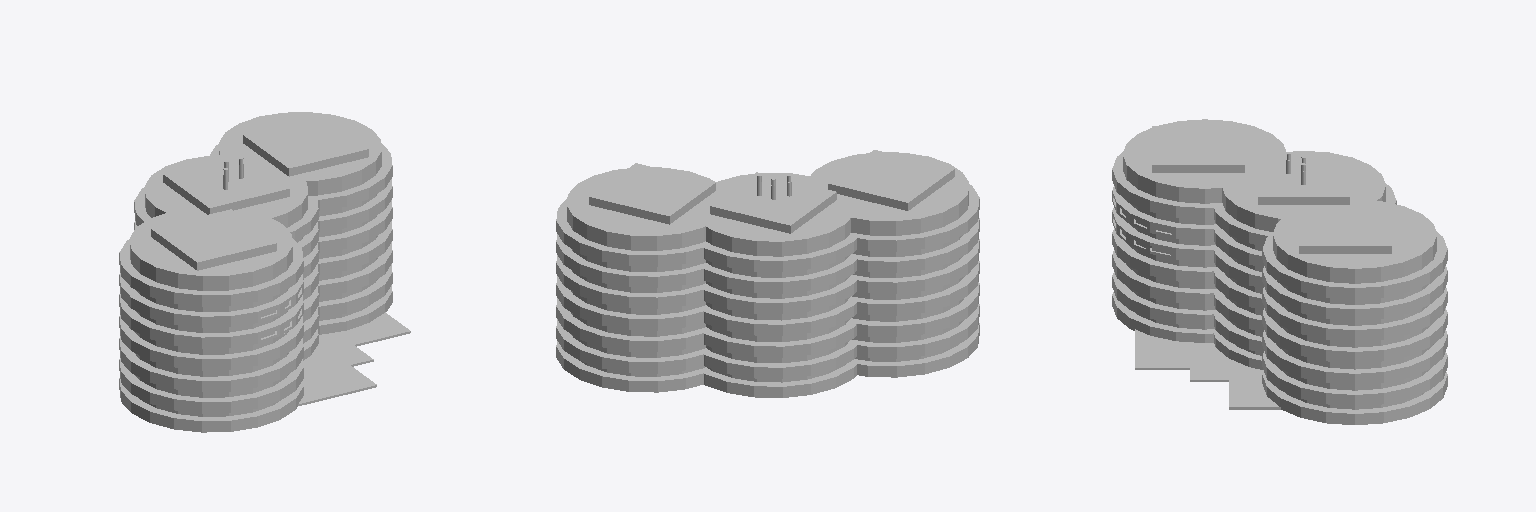
Rendered from buildingOne.obj.
The picture shows the model from 3 angles: view 1: azimuth 30°, elevation 25°; view 2: azimuth 150°, elevation 25°; view 3: azimuth 270°, elevation 25°; orthographic projection.
Visible parts, largest first — view 1: group4 pCylinder16, group4 pCylinder24, pCube4, pCube3, pCube2, group4 pCylinder8, group4 pCylinder15, group4 pCylinder11, group4 pCylinder12, group4 pCylinder10, group4 polySurface10 polySurface7 polySurface1 pCylinder14, group4 pCylinder9 (+12 smaller); view 2: group4 pCylinder24, group4 pCylinder8, group4 pCylinder16, pCube3, pCube4, pCube2, group4 pCylinder23, group4 pCylinder2, group4 pCylinder22, group4 pCylinder19, group4 pCylinder7, group4 pCylinder4 (+15 smaller); view 3: group4 pCylinder24, group4 pCylinder16, group4 pCylinder8, pCube3, pCube4, pCube2, group4 pCylinder23, group4 pCylinder20, group4 pCylinder19, group4 pCylinder18, group4 pCylinder22, group4 pCylinder21 (+18 smaller).
Part boxes in pixels (left/top/right/bottom): group4 pCylinder16: left=130, top=208, right=292, bottom=416; group4 pCylinder24: left=219, top=112, right=381, bottom=320; pCube4: left=151, top=209, right=276, bottom=270; pCube3: left=243, top=115, right=368, bottom=176; pCube2: left=163, top=155, right=289, bottom=214; group4 pCylinder8: left=145, top=155, right=307, bottom=322; group4 pCylinder15: left=119, top=239, right=303, bottom=306; group4 pCylinder11: left=119, top=336, right=303, bottom=391; group4 pCylinder12: left=119, top=315, right=303, bottom=370; group4 pCylinder10: left=119, top=358, right=303, bottom=413; group4 polySurface10 polySurface7 polySurface1 pCylinder14: left=119, top=273, right=303, bottom=327; group4 pCylinder9: left=119, top=378, right=303, bottom=432; group4 pCylinder24: left=567, top=167, right=726, bottom=376; group4 pCylinder8: left=694, top=173, right=854, bottom=382; group4 pCylinder16: left=807, top=152, right=968, bottom=361; pCube3: left=589, top=163, right=715, bottom=224; pCube4: left=828, top=150, right=954, bottom=210; pCube2: left=710, top=172, right=836, bottom=233; group4 pCylinder23: left=556, top=199, right=710, bottom=266; group4 pCylinder2: left=699, top=340, right=859, bottom=378; group4 pCylinder22: left=556, top=234, right=710, bottom=287; group4 pCylinder19: left=556, top=298, right=711, bottom=351; group4 pCylinder7: left=703, top=233, right=859, bottom=271; group4 pCylinder4: left=699, top=296, right=856, bottom=335; group4 pCylinder24: left=1273, top=201, right=1436, bottom=409; group4 pCylinder16: left=1123, top=119, right=1286, bottom=329; group4 pCylinder8: left=1222, top=151, right=1385, bottom=355; pCube3: left=1299, top=207, right=1391, bottom=253; pCube4: left=1152, top=126, right=1244, bottom=172; pCube2: left=1258, top=158, right=1349, bottom=204; group4 pCylinder23: left=1262, top=231, right=1447, bottom=298; group4 pCylinder20: left=1262, top=308, right=1447, bottom=362; group4 pCylinder19: left=1262, top=330, right=1447, bottom=384; group4 pCylinder18: left=1262, top=351, right=1447, bottom=405; group4 pCylinder22: left=1262, top=266, right=1447, bottom=320; group4 pCylinder21: left=1262, top=287, right=1447, bottom=341.
Size of the model in its own units: 4.04 by 2.15 by 3.62.